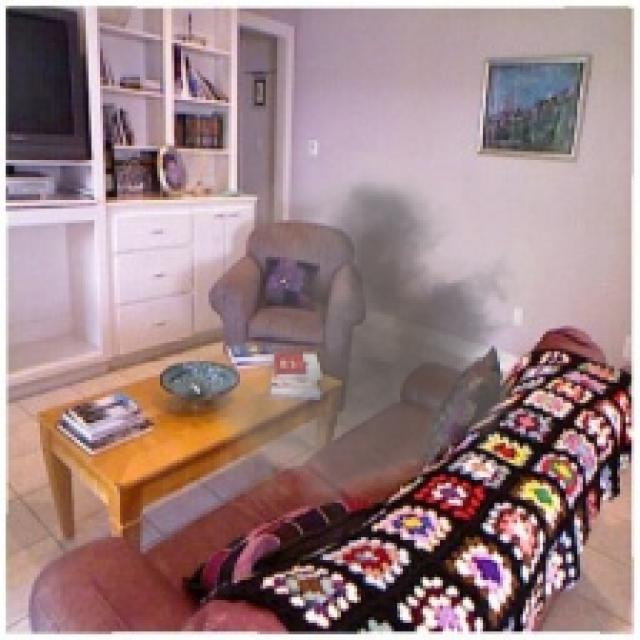smoke: (152, 149, 557, 520)
